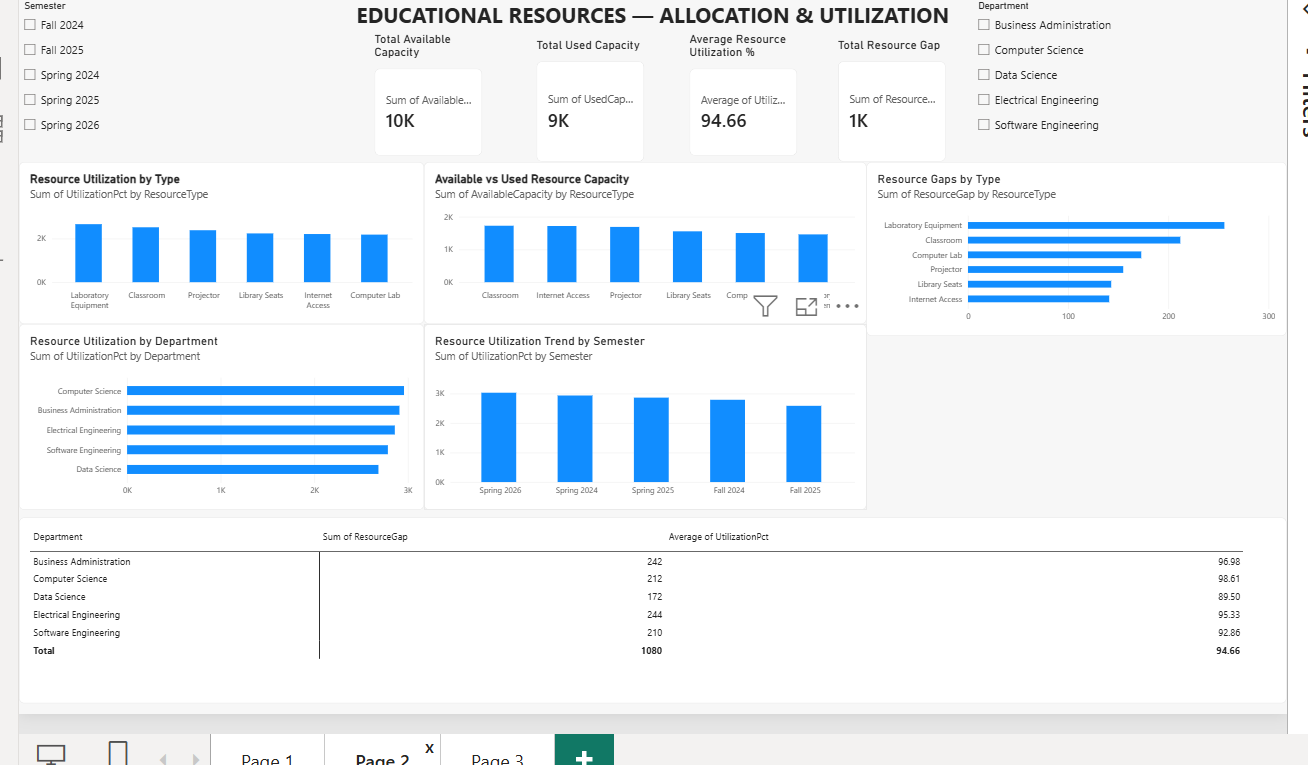

The dashboard page shown, as its layout file describes it:
{"tool":"powerbi","page":{"name":"Page 2","canvas":[1920,1080],"ordinal":1},"visuals":[{"type":"textbox","box":[0,0,1919.3,47.7],"z":0},{"type":"cardVisual","title":"Total Available Capacity","fields":{"Data":["Sum(Resources.AvailableCapacity)"]},"box":[538.3,47.7,163.5,188.5],"z":1},{"type":"cardVisual","title":"Total Resource Gap","fields":{"Data":["Sum(Resources.ResourceGap)"]},"box":[1240.1,56.8,163.5,188.5],"z":2},{"type":"cardVisual","title":"Average Resource Utilization %","fields":{"Data":["Avg(Resources.UtilizationPct)"]},"box":[1015.3,47.7,163.5,188.5],"z":3},{"type":"cardVisual","title":"Total Used Capacity","fields":{"Data":["Sum(Resources.UsedCapacity)"]},"box":[783.6,56.8,163.5,188.5],"z":4},{"type":"clusteredColumnChart","title":"Resource Utilization by Type","fields":{"Category":["Resources.ResourceType"],"Y":["Sum(Resources.UtilizationPct)"]},"box":[0,245.3,613.3,245.3],"z":5},{"type":"clusteredColumnChart","title":"Available vs Used Resource Capacity","fields":{"Category":["Resources.ResourceType"],"Y":["Sum(Resources.AvailableCapacity)"]},"box":[613.3,245.3,670,245.3],"z":6},{"type":"barChart","title":"Resource Gaps by Type","fields":{"Category":["Resources.ResourceType"],"Y":["Sum(Resources.ResourceGap)"]},"box":[1283.3,245.3,636,263.5],"z":7},{"type":"clusteredBarChart","title":"Resource Utilization by Department","fields":{"Category":["Resources.Department"],"Y":["Sum(Resources.UtilizationPct)"]},"box":[0,490.6,613.3,281.6],"z":8},{"type":"lineStackedColumnComboChart","title":"Resource Utilization Trend by Semester","fields":{"Y":["Sum(Resources.UtilizationPct)"],"Category":["Resources.Semester"]},"box":[613.3,490.6,670,281.6],"z":9},{"type":"pivotTable","fields":{"Rows":["Resources.Department"],"Values":["Sum(Resources.ResourceGap)","Avg(Resources.UtilizationPct)"]},"box":[0,783.6,1919.3,281.6],"z":10},{"type":"slicer","fields":{"Values":["Resources.Semester"]},"box":[0,0,361.1,245.3],"z":11},{"type":"slicer","fields":{"Values":["Resources.Department"]},"box":[1444.6,0,474.7,236.2],"z":12}]}

Visuals, with their boxes on the page's 1920x1080 design canvas (x1, y1, x2, y2). These are canvas units, not pixel positions in the 1308x765 screenshot, which may show the page scaled, cropped or inside an application window:
textbox: <box>0,0,1919,48</box>
"Total Available Capacity" cardVisual: <box>538,48,702,236</box>
"Total Resource Gap" cardVisual: <box>1240,57,1404,245</box>
"Average Resource Utilization %" cardVisual: <box>1015,48,1179,236</box>
"Total Used Capacity" cardVisual: <box>784,57,947,245</box>
"Resource Utilization by Type" clusteredColumnChart: <box>0,245,613,491</box>
"Available vs Used Resource Capacity" clusteredColumnChart: <box>613,245,1283,491</box>
"Resource Gaps by Type" barChart: <box>1283,245,1919,509</box>
"Resource Utilization by Department" clusteredBarChart: <box>0,491,613,772</box>
"Resource Utilization Trend by Semester" lineStackedColumnComboChart: <box>613,491,1283,772</box>
pivotTable - Resources.Department x Sum(Resources.ResourceGap): <box>0,784,1919,1065</box>
slicer - Resources.Semester: <box>0,0,361,245</box>
slicer - Resources.Department: <box>1445,0,1919,236</box>
